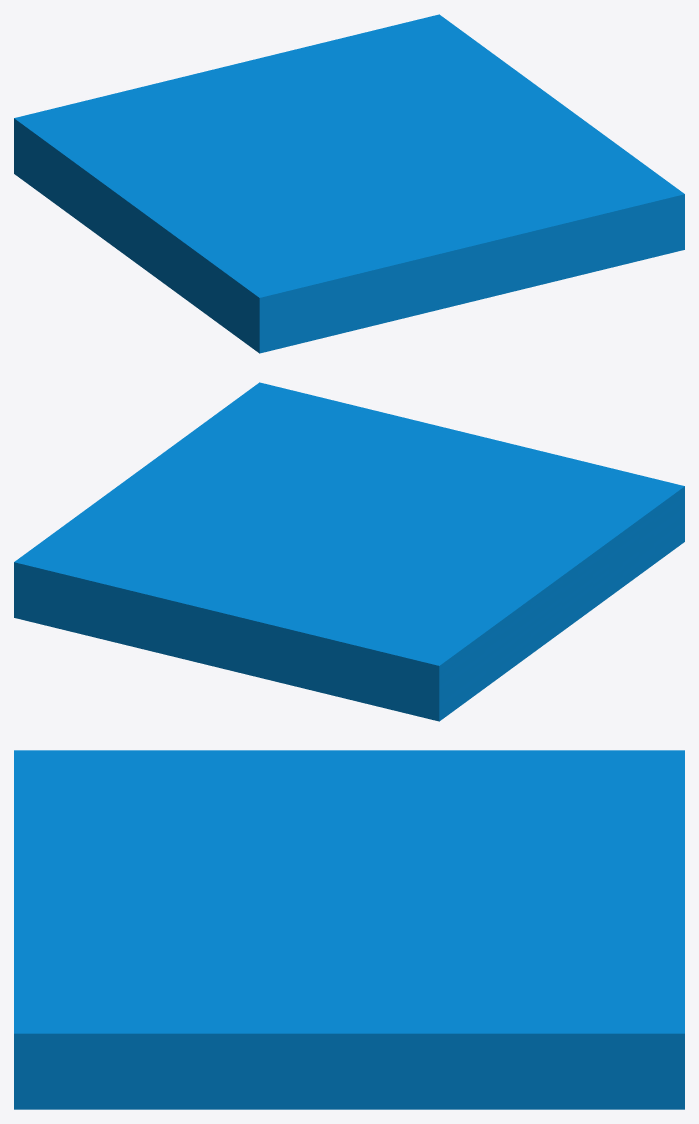
File: water1m2.fbx
3 renders of one model, top to bottom at view 1: azimuth 30°, elevation 25°; view 2: azimuth 150°, elevation 25°; view 3: azimuth 270°, elevation 25°, orthographic. The views are drawn at different scales.
Parts seen in each view (by area): view 1: waterplane; view 2: waterplane; view 3: waterplane.
Part boxes in pixels (x1,y1,x2,y2): waterplane: (14,14,684,353); waterplane: (14,382,684,721); waterplane: (14,750,684,1109).
Size of the model in its own units: 100 by 12.5 by 100.
